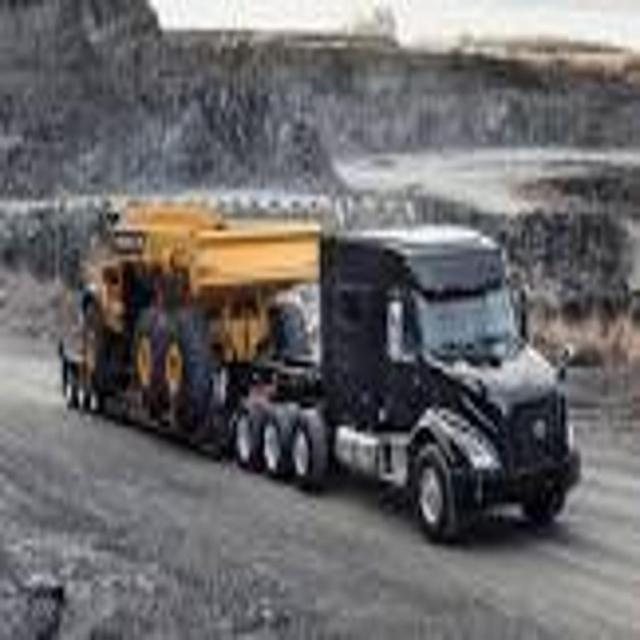dump_truck: (75, 177, 320, 433)
